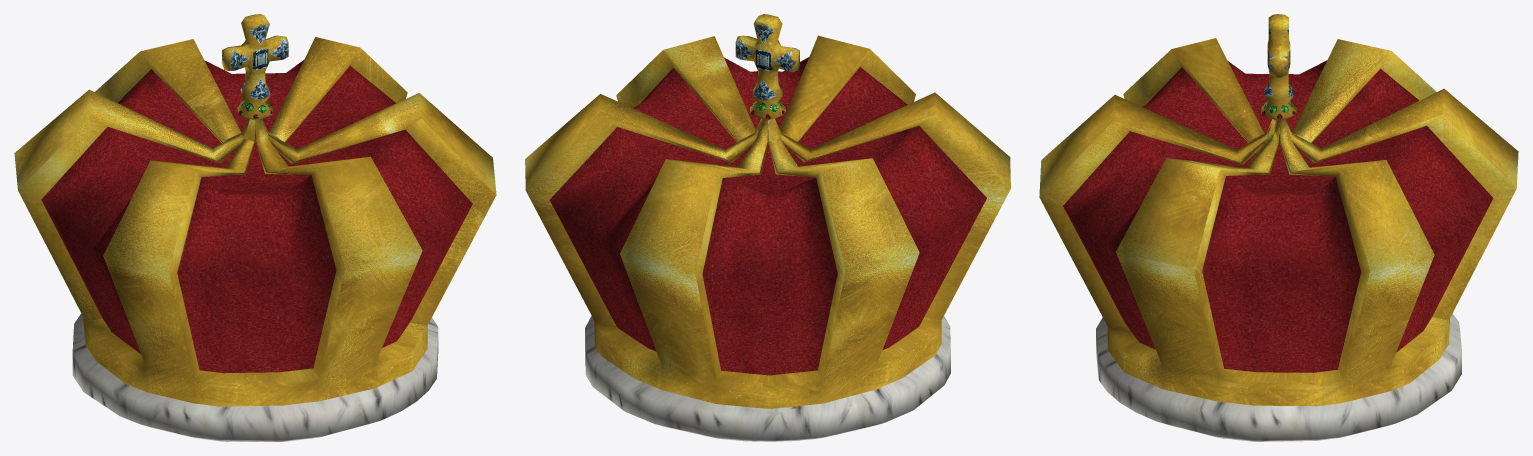
File: Сrown.fbx
3 views of the same model, side by side, from view 1: azimuth 30°, elevation 25°; view 2: azimuth 150°, elevation 25°; view 3: azimuth 270°, elevation 25° (orthographic).
Parts seen in each view (by area): view 1: Сrown; view 2: Сrown; view 3: Сrown.
Boxes of the visible parts, <box> form: Сrown: <box>14,14,496,441</box>; Сrown: <box>525,14,1010,441</box>; Сrown: <box>1039,14,1518,441</box>.
Bounding box in the file's own units: 25.28 × 21.59 × 26.55.
